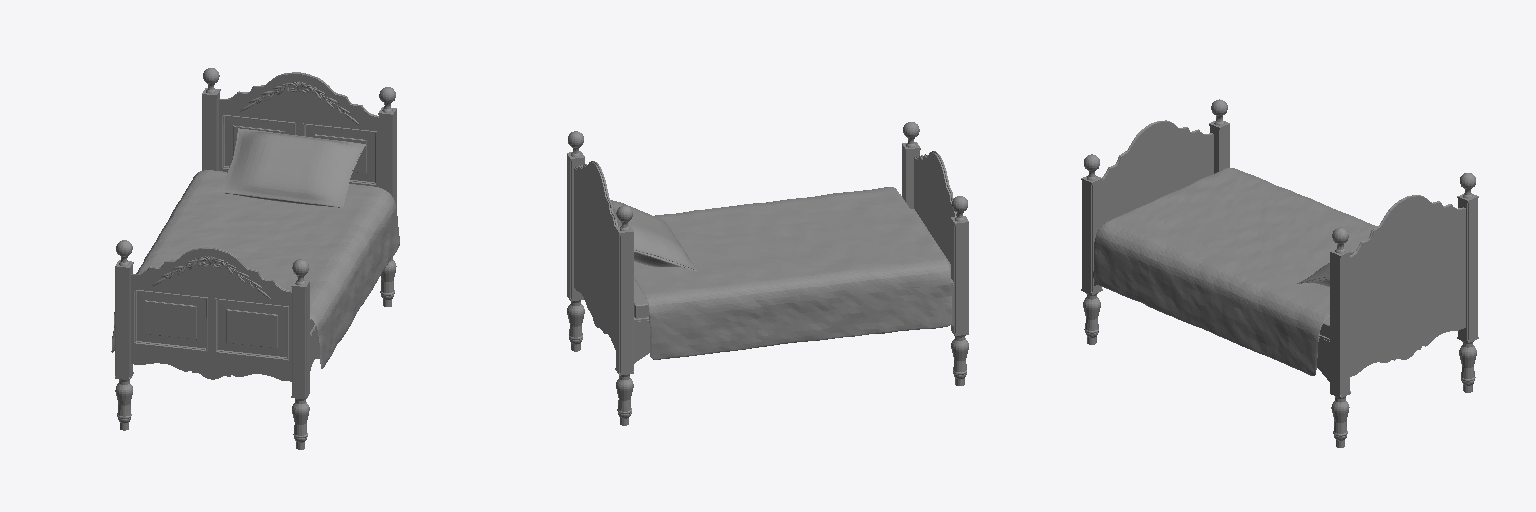
File: bed.obj
3 renders of one model, left to right at view 1: azimuth 30°, elevation 25°; view 2: azimuth 150°, elevation 25°; view 3: azimuth 270°, elevation 25°, orthographic.
Parts seen in each view (by area): view 1: Frame001, Sheets001; view 2: Sheets001, Frame001; view 3: Frame001, Sheets001.
Part boxes in pixels (left/top/right/bottom): Frame001: left=115, top=68, right=396, bottom=449; Sheets001: left=111, top=128, right=399, bottom=368; Sheets001: left=611, top=187, right=951, bottom=359; Frame001: left=567, top=122, right=968, bottom=425; Frame001: left=1081, top=99, right=1478, bottom=447; Sheets001: left=1093, top=168, right=1376, bottom=375.
Size of the model in its own units: 2 by 1.24 by 2.01.